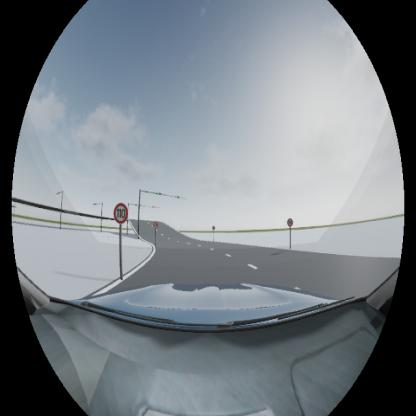Speed Limit 110: (114, 203, 127, 224)
